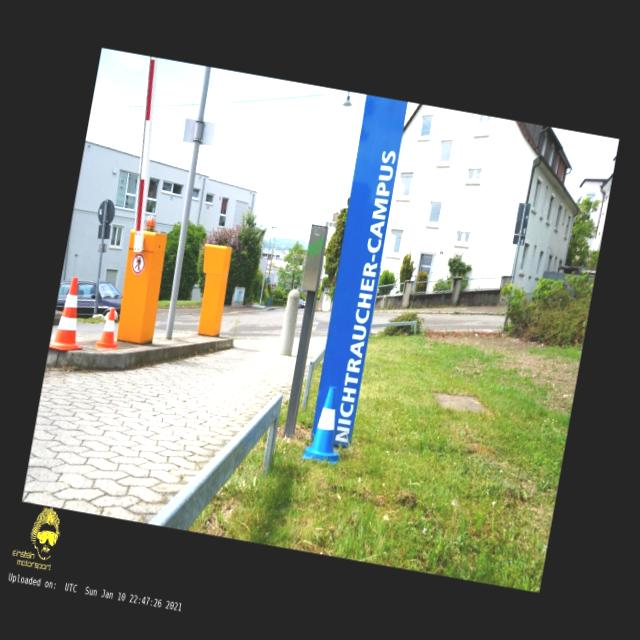blue_cone: (301, 384, 350, 464)
large_orange_cone: (48, 275, 93, 353)
orange_cone: (96, 306, 122, 349)
